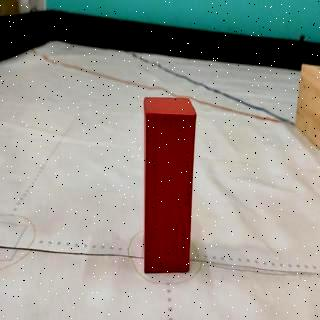redbox: (145, 97, 190, 273)
